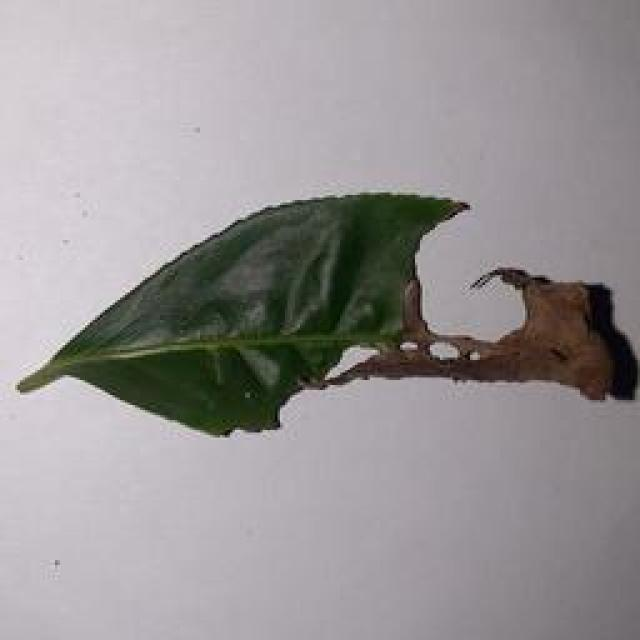Brown Blight: (14, 194, 634, 466)
